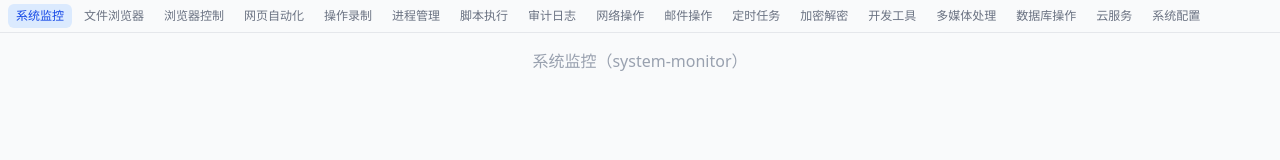
Test: ToolPanel › switches tab on click and updates store
Click the tab "文件浏览器".
click(114, 16)  # box x1=76 y1=4 x2=152 y2=28
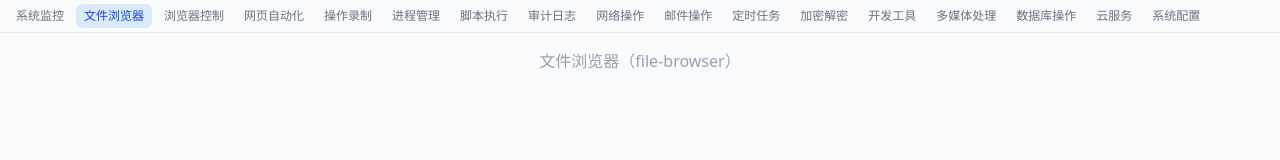
Now the text "文件浏览器（file-browser）" is shown, box x1=539 y1=49 x2=741 y2=73
